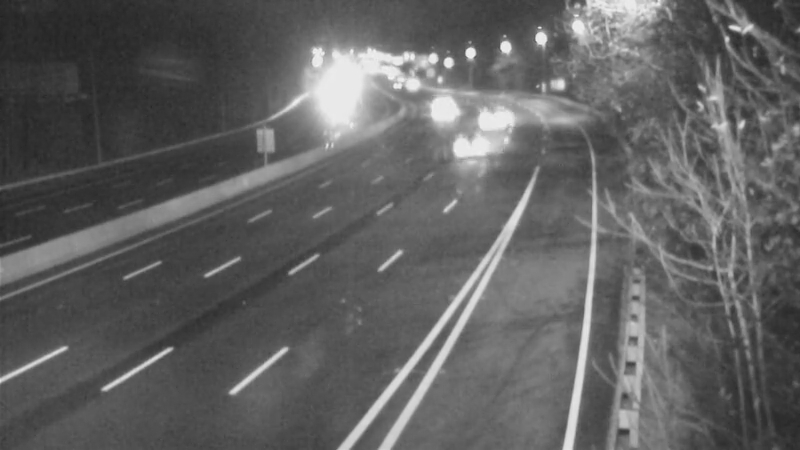vehicle: (418, 76, 468, 126), (412, 91, 462, 141), (465, 95, 515, 145), (444, 125, 494, 175)
